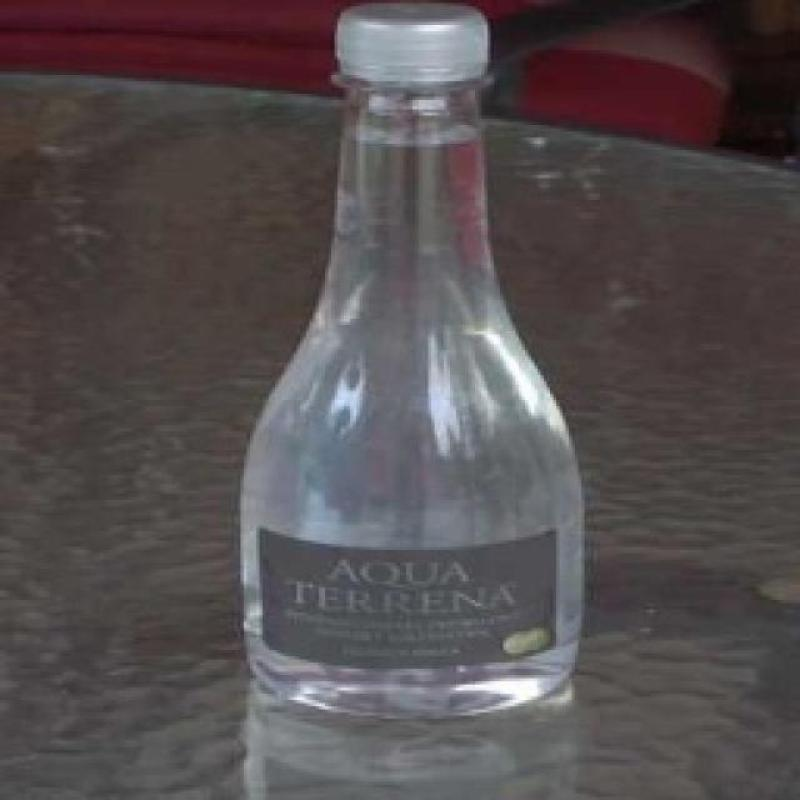botella: (238, 1, 588, 720)
